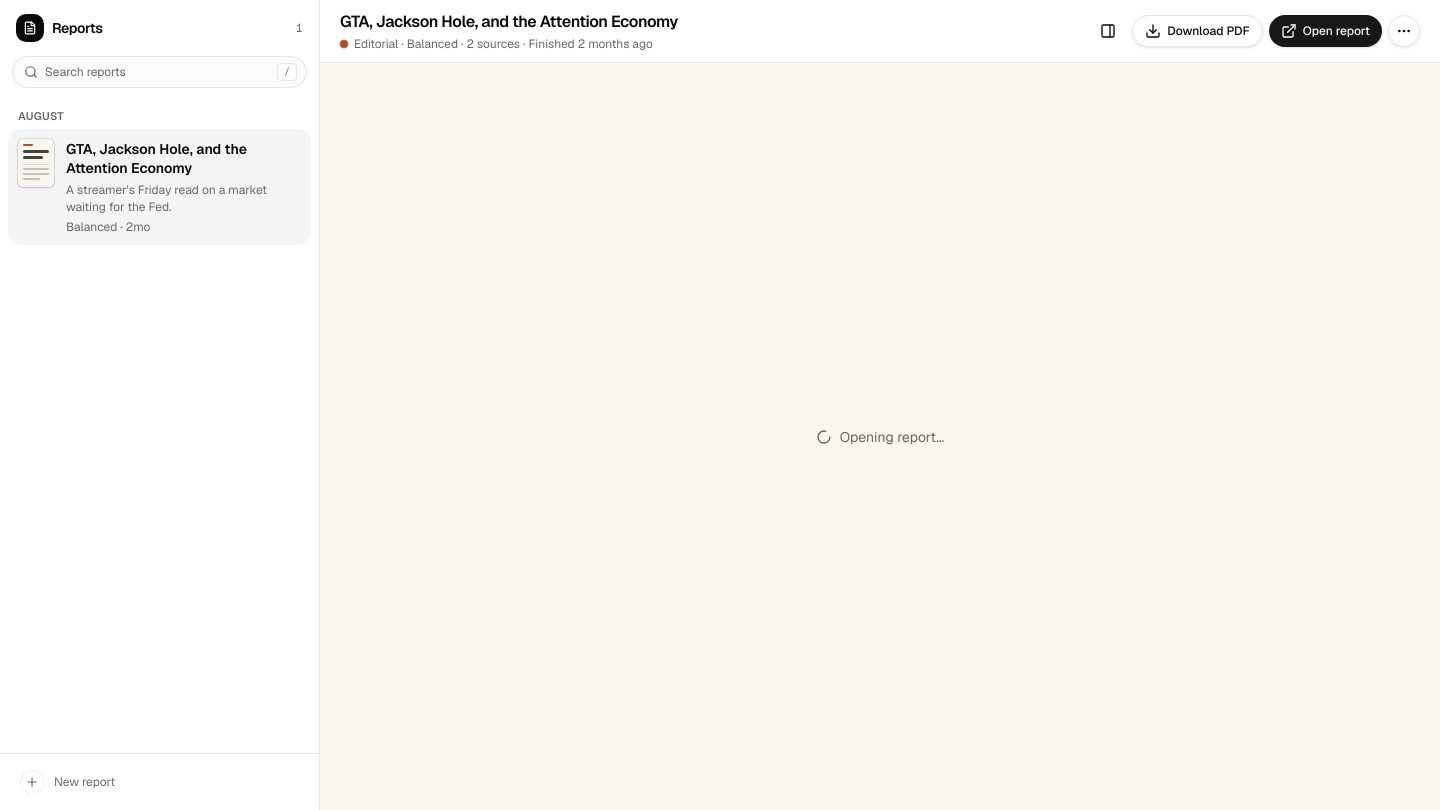
Test: ReportsView › shows native save failures and lets the user retry
Click the button "Download PDF": (1197, 31) [1132,15,1263,47]
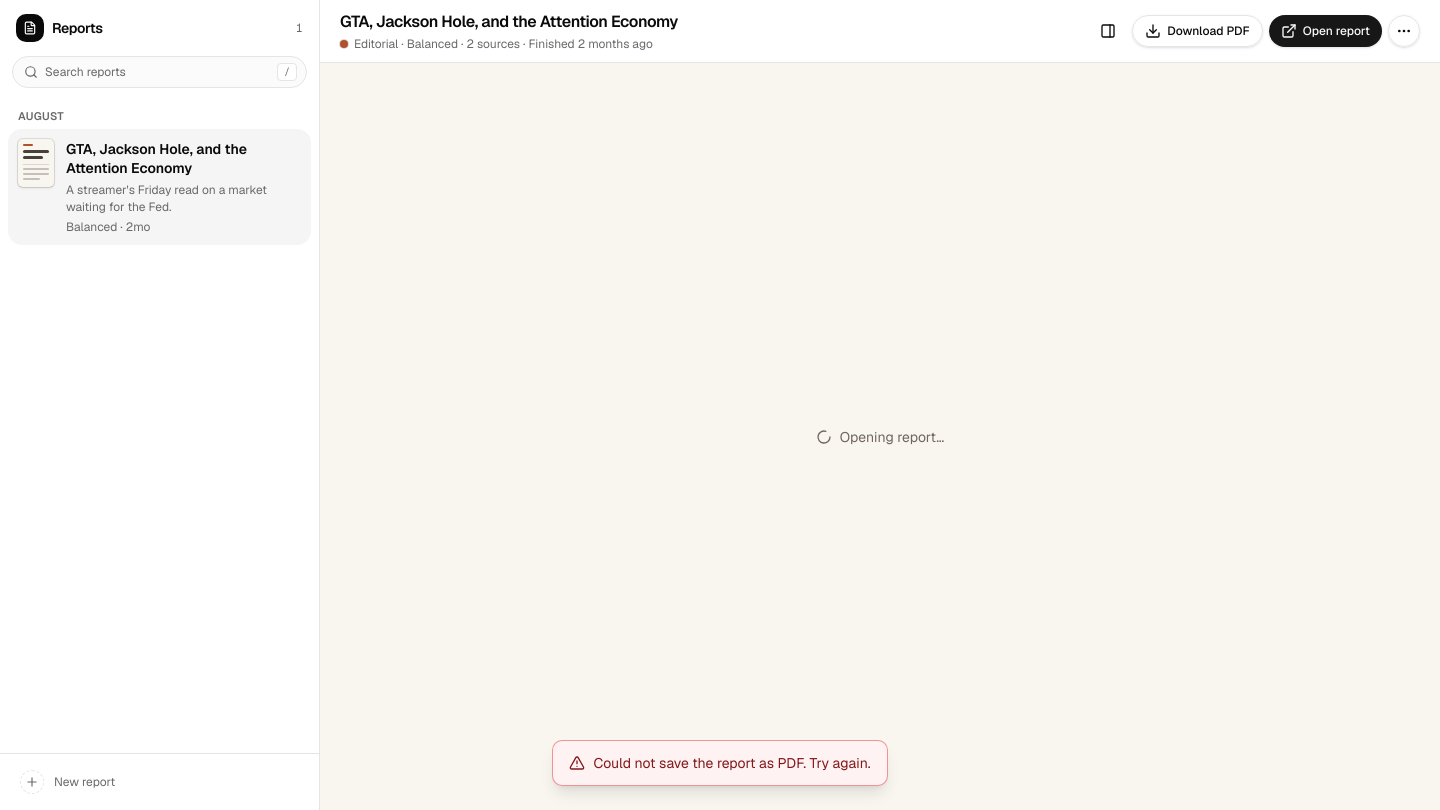
Expected: the message shows "Could not save", [593,754,871,772]
